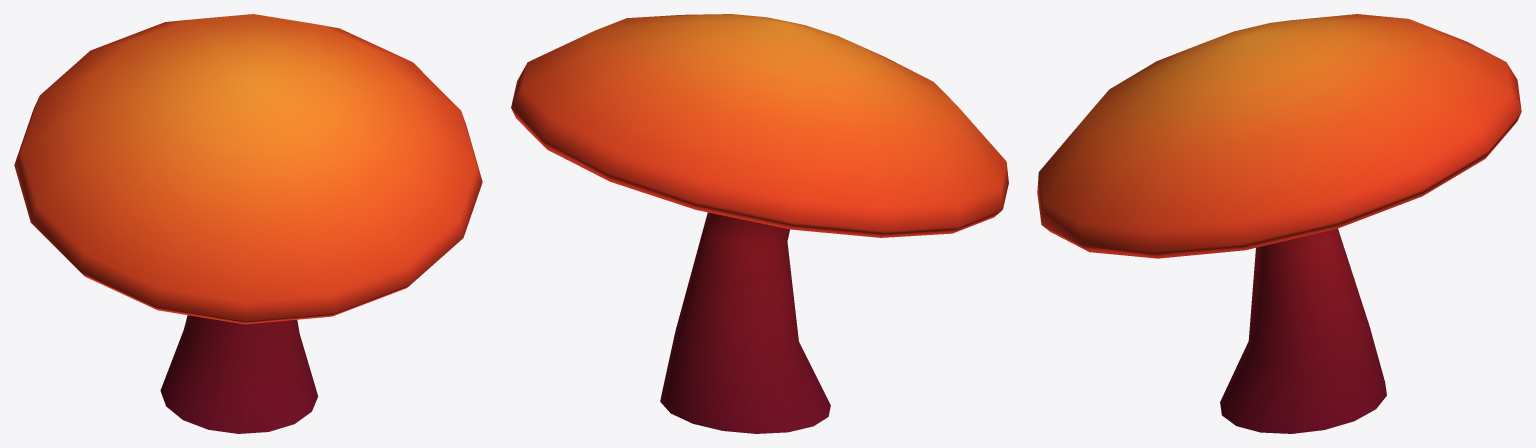
File: mushroom_09.fbx
3 renders of one model, left to right at view 1: azimuth 30°, elevation 25°; view 2: azimuth 150°, elevation 25°; view 3: azimuth 270°, elevation 25°, orthographic. The views are drawn at different scales.
Parts seen in each view (by area): view 1: mushroom; view 2: mushroom; view 3: mushroom.
Part boxes in pixels (box(x1,y1,x2,y2)): mushroom: box(14, 14, 482, 433); mushroom: box(511, 14, 1008, 433); mushroom: box(1037, 14, 1521, 433).
Size of the model in its own units: 29.95 by 24.31 by 29.19.
